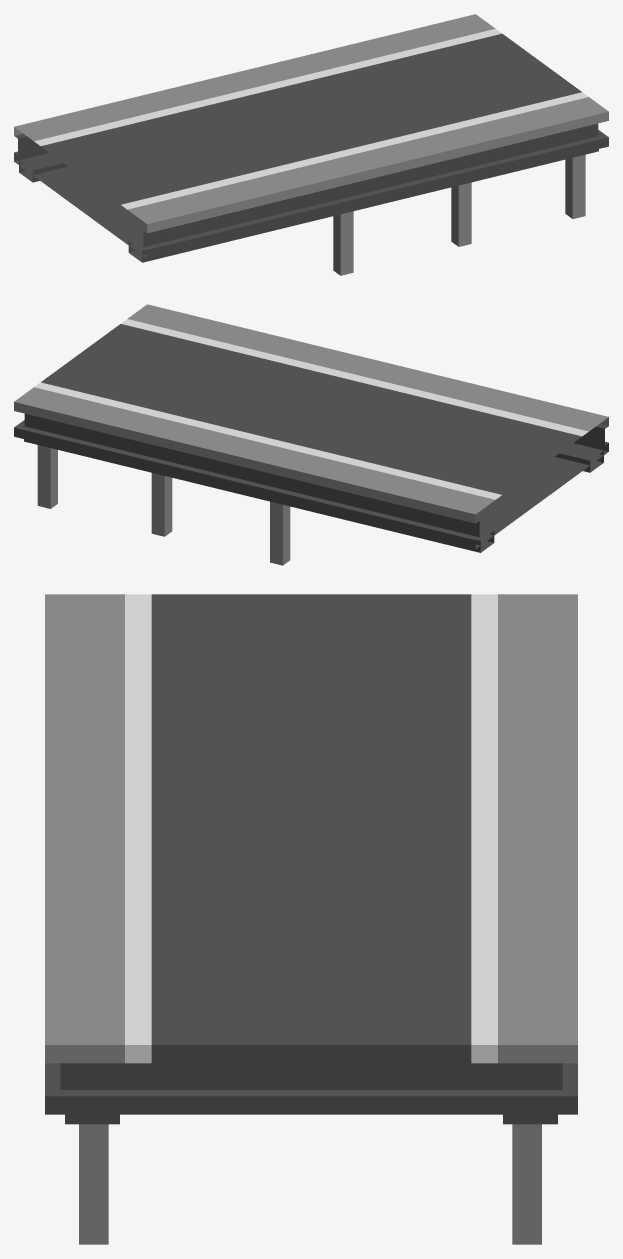
The model's file is Bridge-Jetty.fbx.
The picture shows the model from 3 angles, top to bottom: view 1: azimuth 30°, elevation 25°; view 2: azimuth 150°, elevation 25°; view 3: azimuth 270°, elevation 25°; orthographic projection. The views are drawn at different scales.
Visible parts, largest first — view 1: Bridge-Jetty, Bridge-Jetty_Sidewalk, Bridge-Jetty_Whitelines; view 2: Bridge-Jetty, Bridge-Jetty_Sidewalk, Bridge-Jetty_Whitelines; view 3: Bridge-Jetty, Bridge-Jetty_Sidewalk, Bridge-Jetty_Whitelines.
Part boxes in pixels (<box>): Bridge-Jetty: <box>14,33,608,262</box>; Bridge-Jetty_Sidewalk: <box>14,14,608,275</box>; Bridge-Jetty_Whitelines: <box>34,28,588,209</box>; Bridge-Jetty: <box>14,324,608,552</box>; Bridge-Jetty_Sidewalk: <box>14,304,608,565</box>; Bridge-Jetty_Whitelines: <box>34,319,588,499</box>; Bridge-Jetty: <box>45,594,577,1124</box>; Bridge-Jetty_Sidewalk: <box>45,594,577,1244</box>; Bridge-Jetty_Whitelines: <box>125,594,497,1063</box>.
Size of the model in its own units: 20 by 4.43 by 10.
